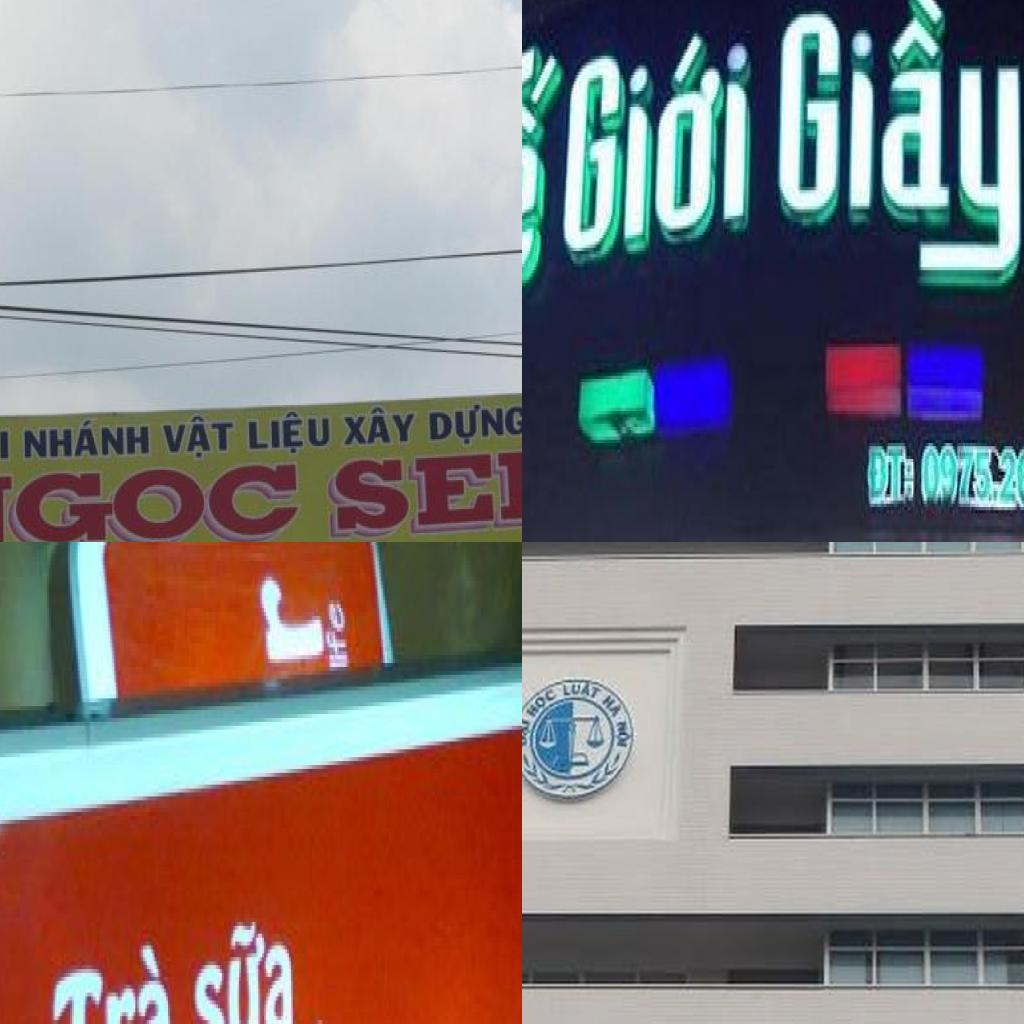text: (772, 0, 1023, 279), (559, 17, 752, 264), (0, 459, 301, 542), (185, 906, 302, 1024), (522, 23, 563, 350), (48, 930, 177, 1024), (18, 417, 152, 465), (426, 401, 522, 451), (243, 410, 332, 458), (158, 412, 238, 463), (865, 436, 917, 514), (338, 405, 416, 451), (324, 592, 352, 671), (522, 683, 558, 720), (560, 677, 606, 704), (598, 690, 626, 723), (522, 712, 534, 752)
